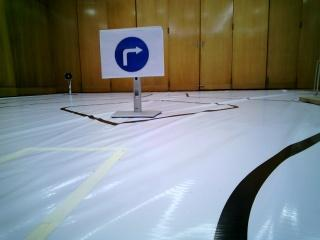right: (99, 27, 165, 77)
